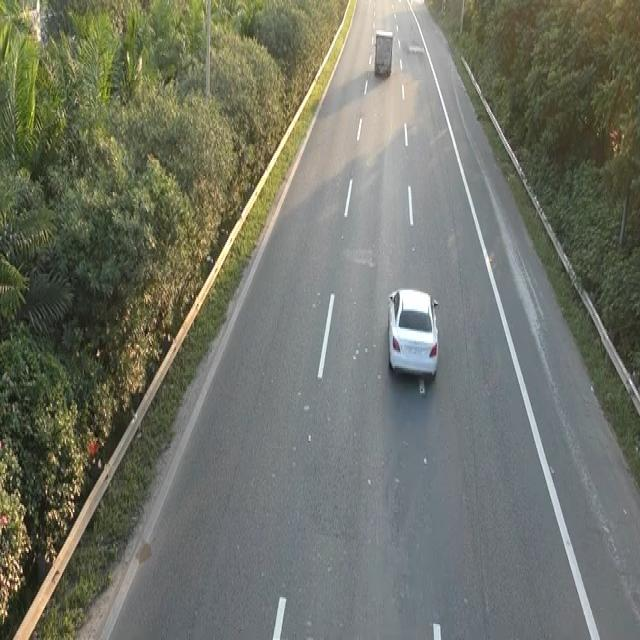bus: (385, 283, 441, 382)
minivan: (371, 25, 397, 83)
